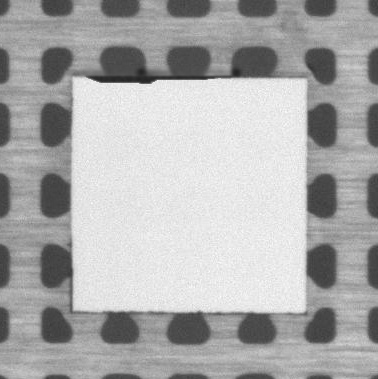DIE_BROKEN: (82, 72, 228, 88)
